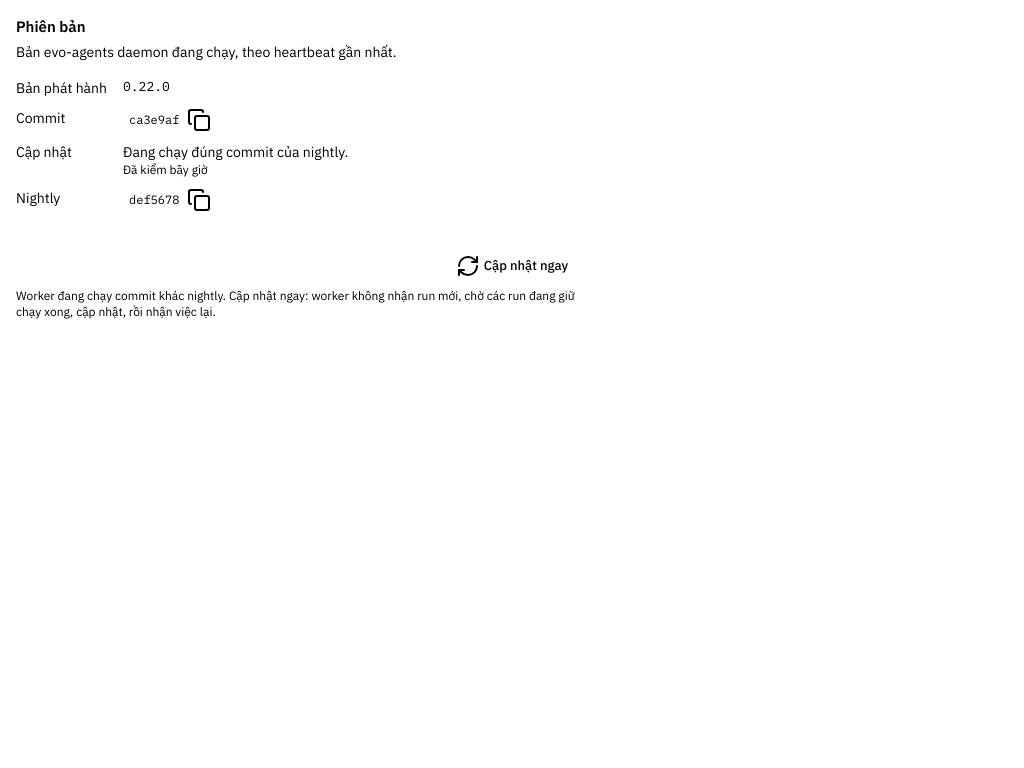
Test: UpdateNow › asks with a POST that carries the CSRF header, and says so in a toast
Click the button "Cập nhật ngay".
click(512, 266)  # box [16,252,1008,280]
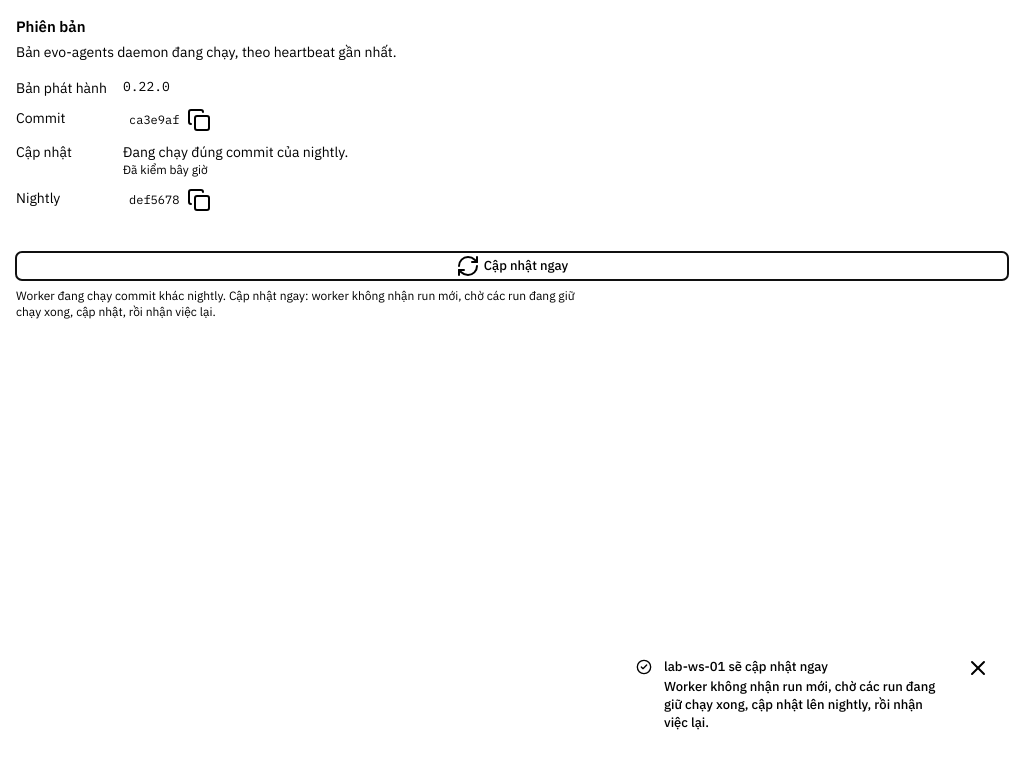
Now the text "lab-ws-01 sẽ cập nhật ngay" is shown, box [664,658,828,675]
